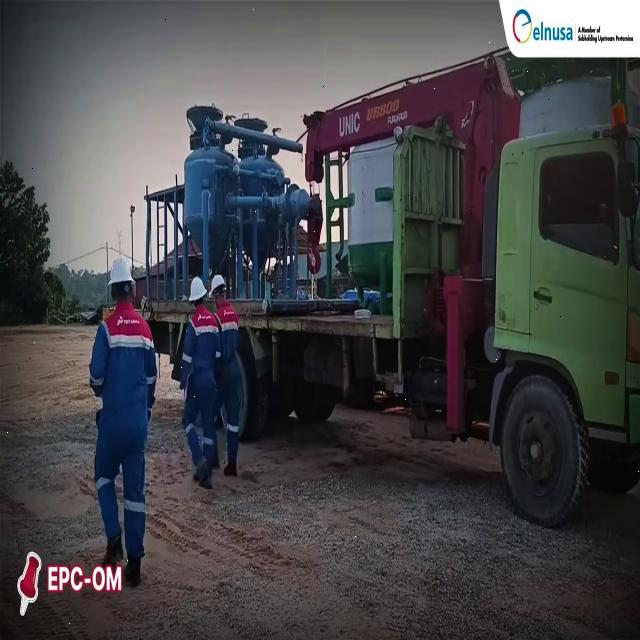Hardhat: (108, 257, 134, 290), (188, 278, 208, 302), (208, 276, 228, 300)
Overall Suit: (90, 306, 153, 550), (180, 310, 217, 470), (210, 306, 241, 464)
Safety Boots: (125, 549, 144, 586), (101, 534, 122, 567), (198, 464, 212, 488), (223, 460, 238, 478)
